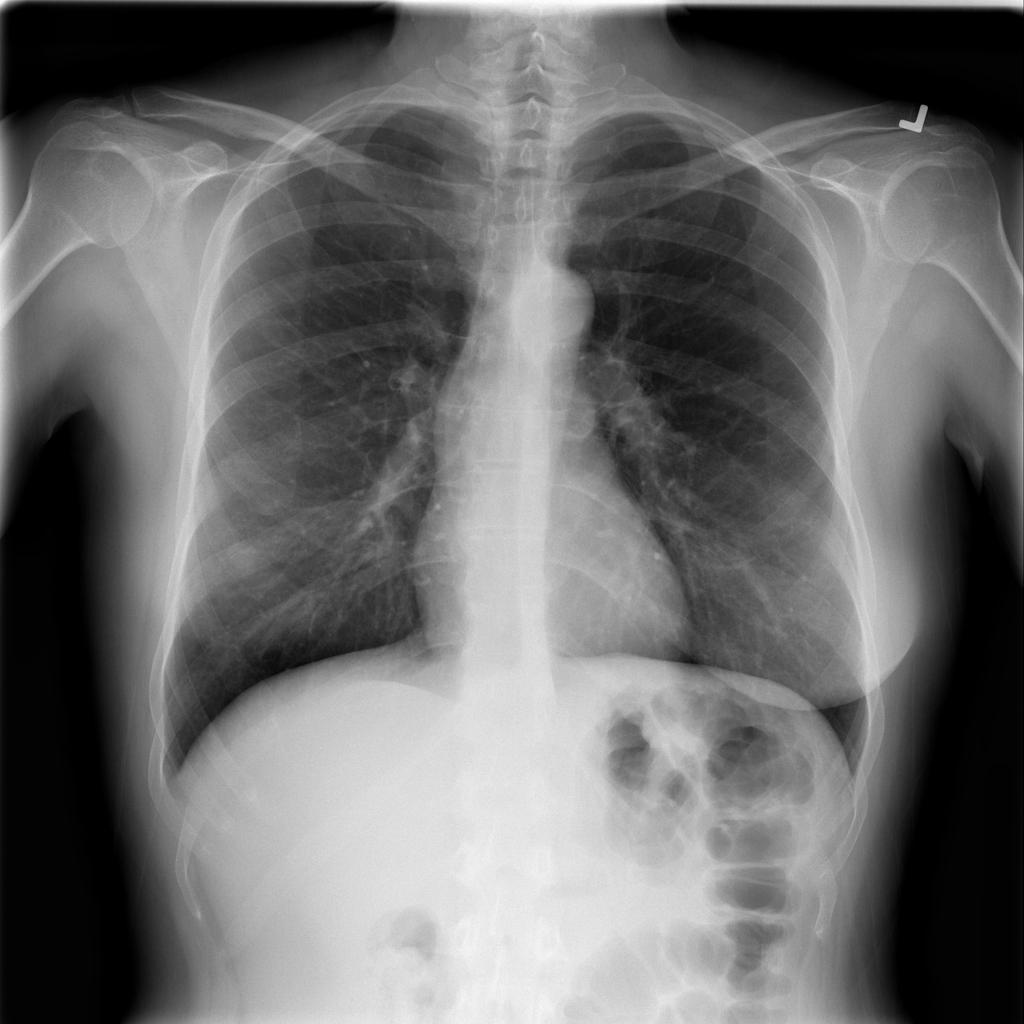nodule: (215, 532, 269, 585)
